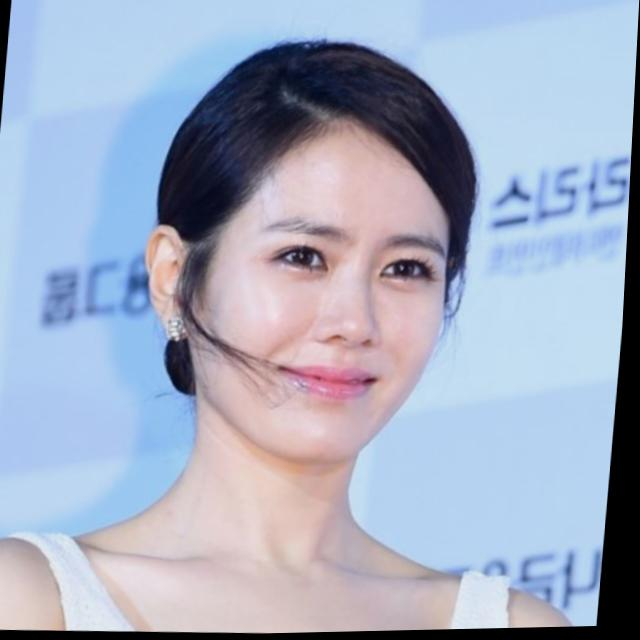face: (180, 153, 471, 465)
